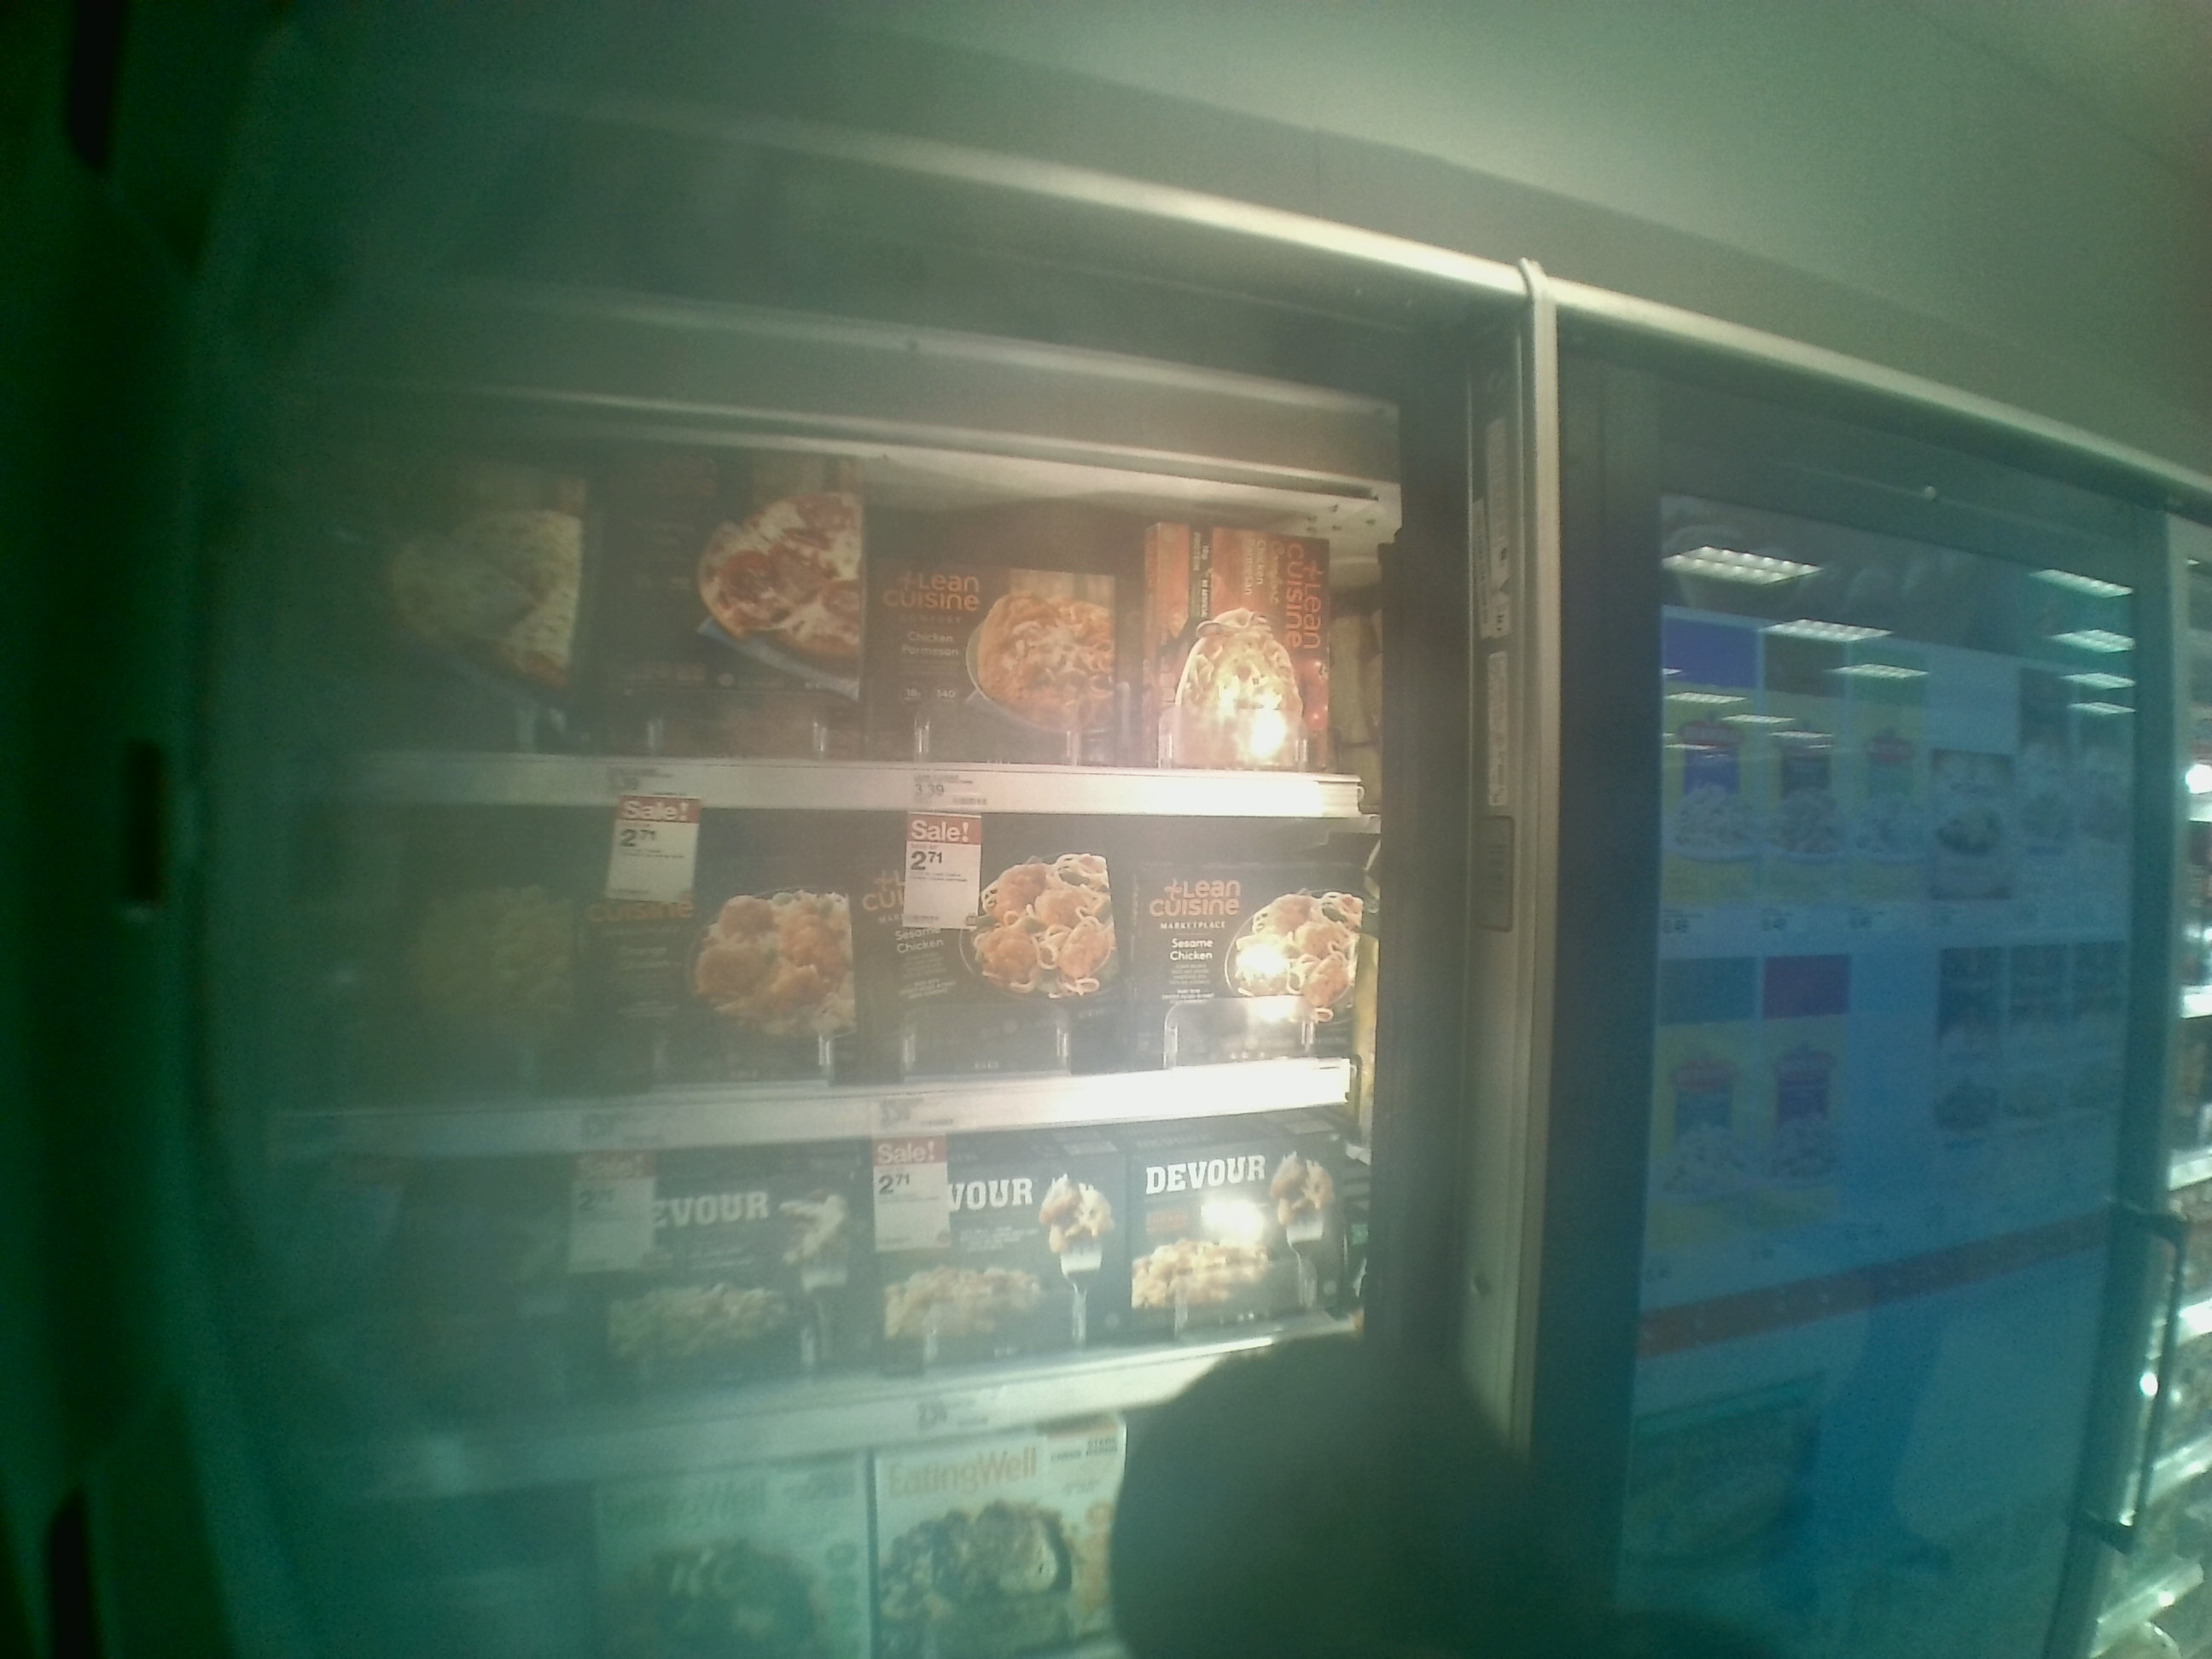shelf: (266, 422, 1376, 817), (268, 810, 1376, 1166)
